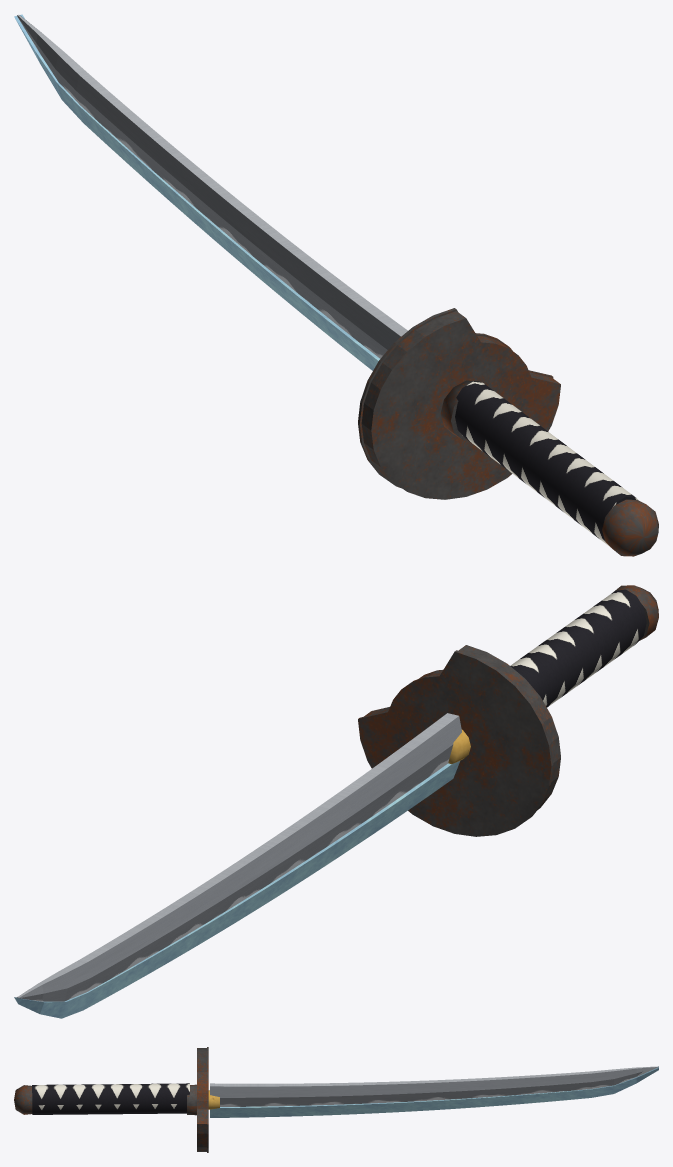
The model's file is HO_Weapon_MoonlitEdge.fbx.
3 views of the same model, one above another, from view 1: azimuth 30°, elevation 25°; view 2: azimuth 150°, elevation 25°; view 3: azimuth 270°, elevation 25° (orthographic). The views are drawn at different scales.
Parts seen in each view (by area): view 1: HO_Weapon_MoonlitEdge__Iron_Wrought, HO_Weapon_MoonlitEdge__Steel_Blade, HO_Weapon_MoonlitEdge__Tsuka_Wrap, HO_Weapon_MoonlitEdge_Glow; view 2: HO_Weapon_MoonlitEdge__Iron_Wrought, HO_Weapon_MoonlitEdge__Steel_Blade, HO_Weapon_MoonlitEdge_Glow, HO_Weapon_MoonlitEdge__Tsuka_Wrap; view 3: HO_Weapon_MoonlitEdge__Steel_Blade, HO_Weapon_MoonlitEdge__Tsuka_Wrap, HO_Weapon_MoonlitEdge_Glow, HO_Weapon_MoonlitEdge__Iron_Wrought.
Part boxes in pixels (x1,y1,x2,y2): HO_Weapon_MoonlitEdge__Iron_Wrought: (358, 308, 658, 556); HO_Weapon_MoonlitEdge__Steel_Blade: (17, 14, 407, 358); HO_Weapon_MoonlitEdge__Tsuka_Wrap: (455, 381, 638, 547); HO_Weapon_MoonlitEdge_Glow: (14, 14, 379, 370); HO_Weapon_MoonlitEdge__Iron_Wrought: (358, 585, 658, 836); HO_Weapon_MoonlitEdge__Steel_Blade: (17, 713, 461, 1001); HO_Weapon_MoonlitEdge_Glow: (14, 761, 459, 1018); HO_Weapon_MoonlitEdge__Tsuka_Wrap: (510, 589, 646, 707); HO_Weapon_MoonlitEdge__Steel_Blade: (210, 1066, 658, 1106); HO_Weapon_MoonlitEdge__Tsuka_Wrap: (32, 1083, 189, 1114); HO_Weapon_MoonlitEdge_Glow: (210, 1066, 658, 1117); HO_Weapon_MoonlitEdge__Iron_Wrought: (14, 1047, 208, 1152).
Size of the model in its own units: 0.6936 by 0.6242 by 3.88.
